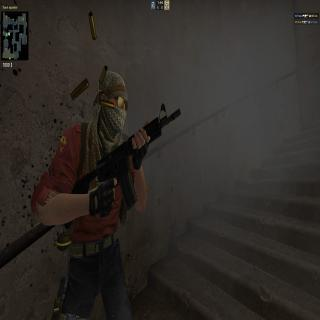T-Head: (94, 66, 130, 142)
